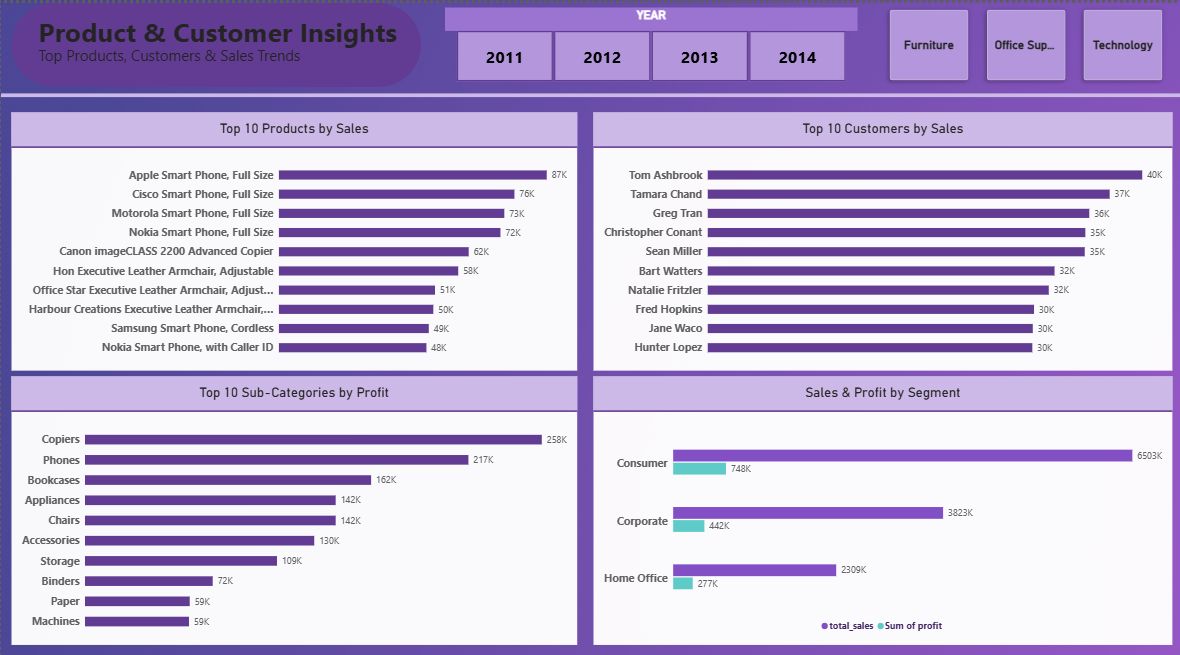

Layout of this report page (visuals, bound fields, positions):
{"tool":"powerbi","page":{"name":"Product & Customer Insights","canvas":[1920,1080],"ordinal":2},"visuals":[{"type":"shape","box":[17,0,663.1,136],"z":0},{"type":"textbox","box":[60.7,17,619.4,72.9],"z":1000},{"type":"barChart","title":"Top 10 Products by Sales","fields":{"Category":["ecommerce_cleaned.product_name"],"Y":["ecommerce_cleaned.total_sales"]},"box":[17,177.3,915.7,417.8],"z":2000},{"type":"shape","box":[0,60.7,1918.8,177.3],"z":2001},{"type":"barChart","title":"Top 10 Customers by Sales","fields":{"Category":["ecommerce_cleaned.customer_name"],"Y":["ecommerce_cleaned.total_sales"]},"box":[959.4,177.3,937.5,417.8],"z":2002},{"type":"barChart","title":"Top 10 Sub-Categories by Profit","fields":{"Category":["ecommerce_cleaned.sub_category"],"Y":["Sum(ecommerce_cleaned.profit)"]},"box":[17,604.8,915.7,434.8],"z":2003},{"type":"clusteredBarChart","title":"Sales & Profit by Segment","fields":{"Category":["ecommerce_cleaned.segment"],"Y":["ecommerce_cleaned.total_sales","Sum(ecommerce_cleaned.profit)"]},"box":[959.4,604.8,937.5,434.8],"z":2004},{"type":"slicer","title":"YEAR","fields":{"Values":["ecommerce_cleaned.order_date.Variation.Date Hierarchy.Year"]},"box":[718.9,7.3,667.9,119],"z":2005},{"type":"advancedSlicerVisual","fields":{"Values":["ecommerce_cleaned.category"]},"box":[1428.2,0,463.9,136],"z":2006},{"type":"textbox","box":[60.7,68,512.5,109.3],"z":2007}]}

Visuals, with their boxes in screenshot pixels (x1, y1, x2, y2), scaled from the page's 1920x1080 canvas onto the 1180x655 screenshot:
shape: <region>10, 0, 418, 82</region>
textbox: <region>37, 10, 418, 55</region>
"Top 10 Products by Sales" barChart: <region>10, 108, 573, 361</region>
shape: <region>0, 37, 1179, 144</region>
"Top 10 Customers by Sales" barChart: <region>590, 108, 1166, 361</region>
"Top 10 Sub-Categories by Profit" barChart: <region>10, 367, 573, 630</region>
"Sales & Profit by Segment" clusteredBarChart: <region>590, 367, 1166, 630</region>
"YEAR" slicer: <region>442, 4, 852, 77</region>
advancedSlicerVisual - ecommerce_cleaned.category: <region>878, 0, 1163, 82</region>
textbox: <region>37, 41, 352, 108</region>
